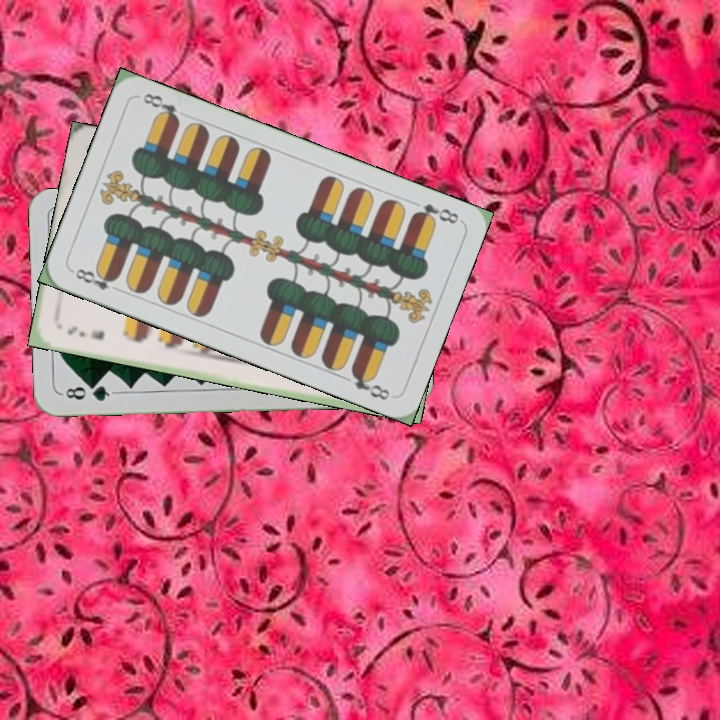E7: (63, 321, 107, 343)
E8: (68, 264, 124, 295), (408, 199, 462, 227)
G8: (58, 380, 117, 404)
